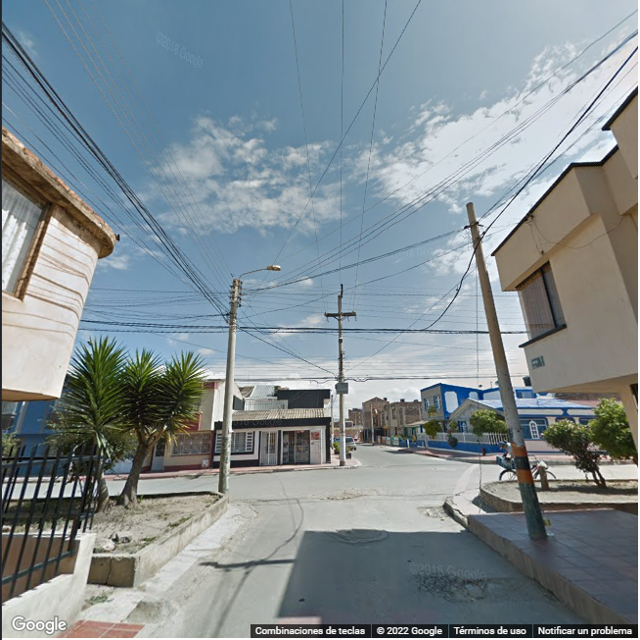D20: (421, 570, 480, 604)
